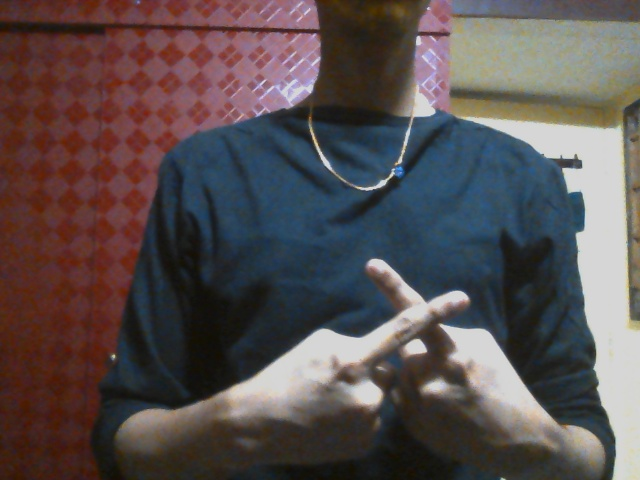X: (252, 257, 533, 473)
